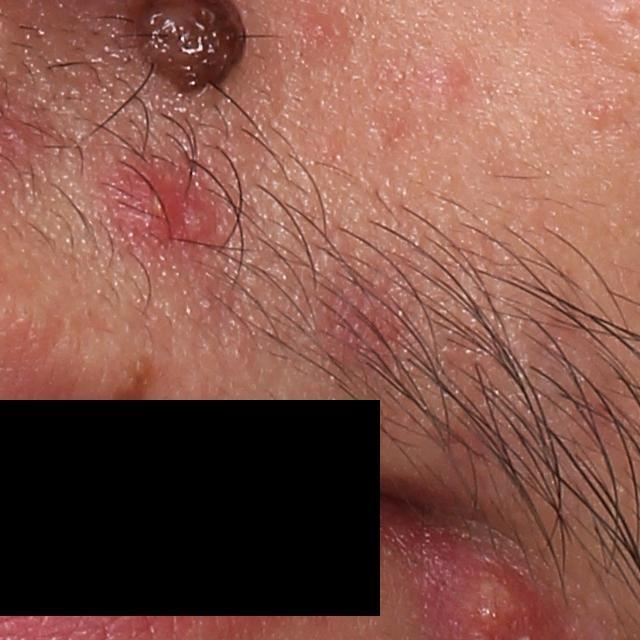nevus: (101, 351, 178, 405)
papule: (94, 166, 229, 259), (413, 47, 474, 112)
